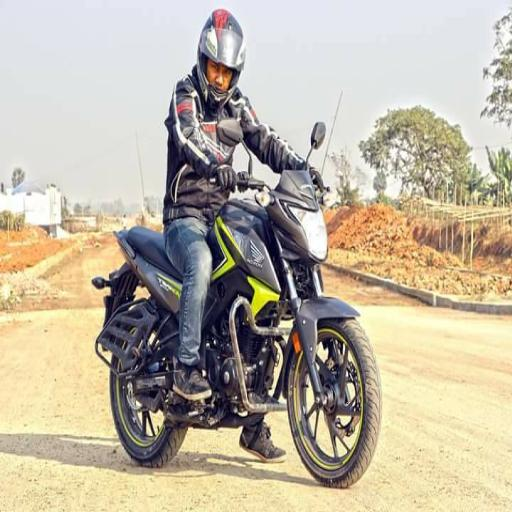helmet: (195, 7, 247, 107)
overloading: (90, 121, 384, 488)
